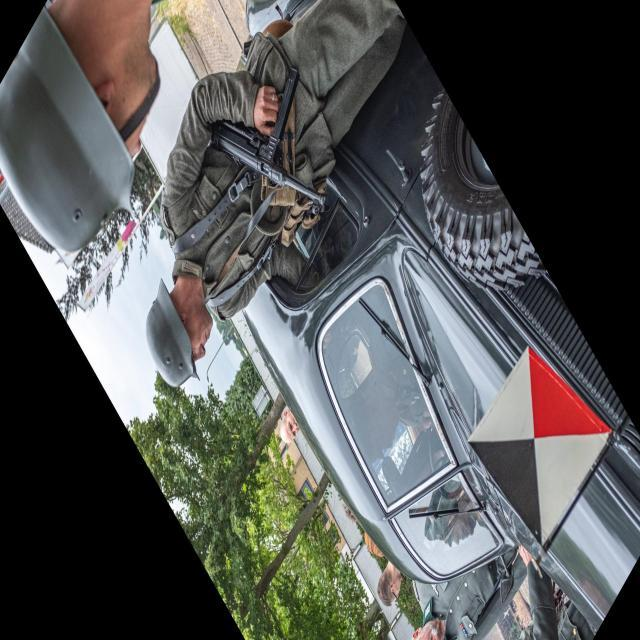weapon: (210, 68, 326, 215)
